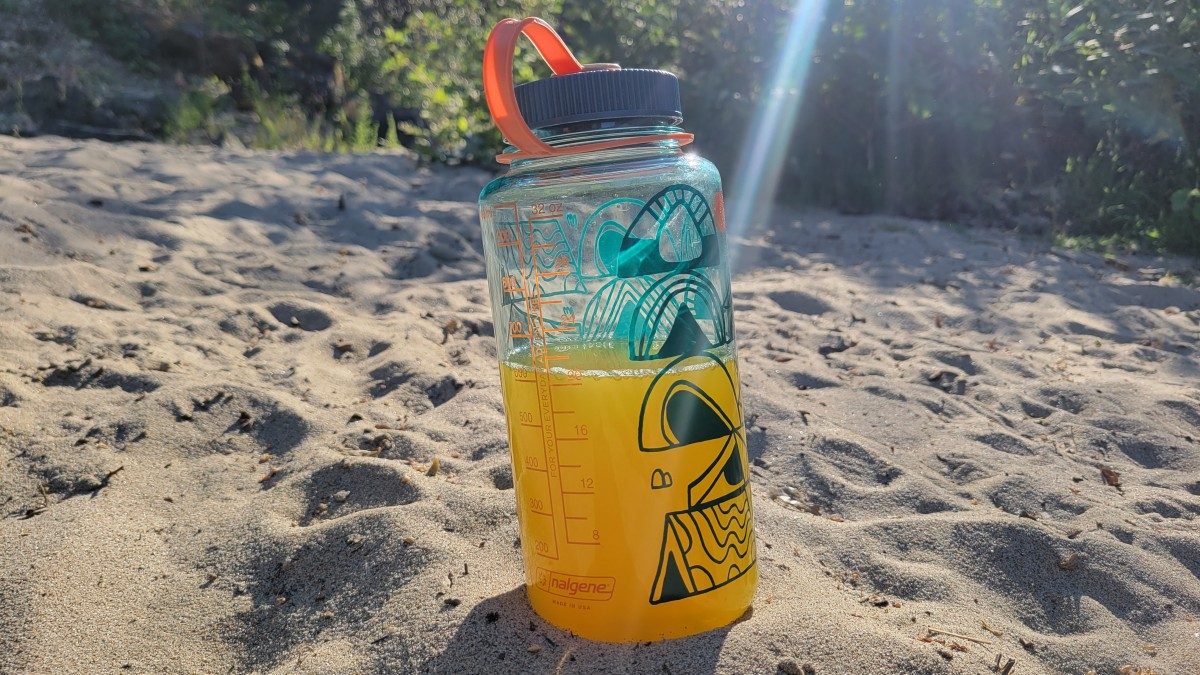bottle: (477, 13, 758, 647)
